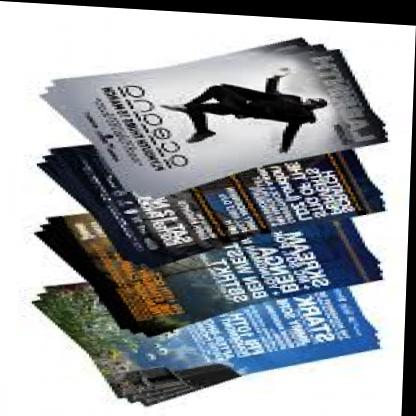Paper: (0, 3, 410, 416)
